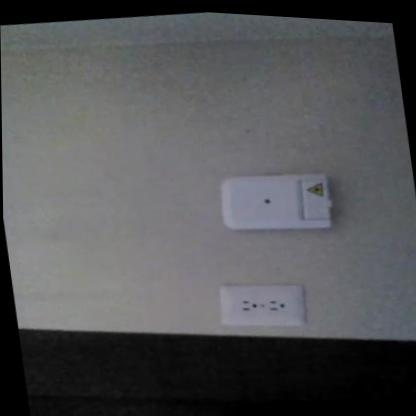OUTLET: (215, 275, 306, 333)
